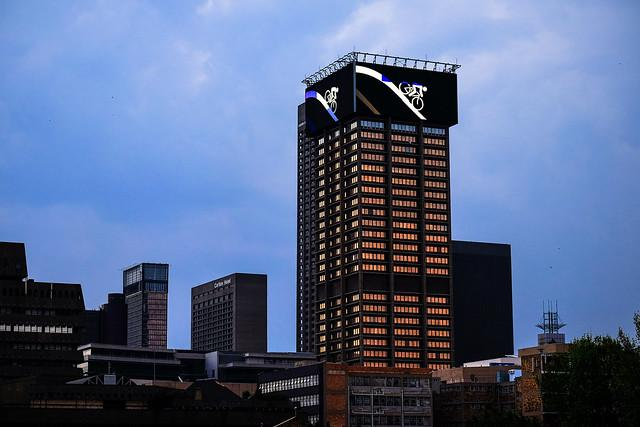building: (292, 50, 466, 385), (116, 260, 174, 352)
